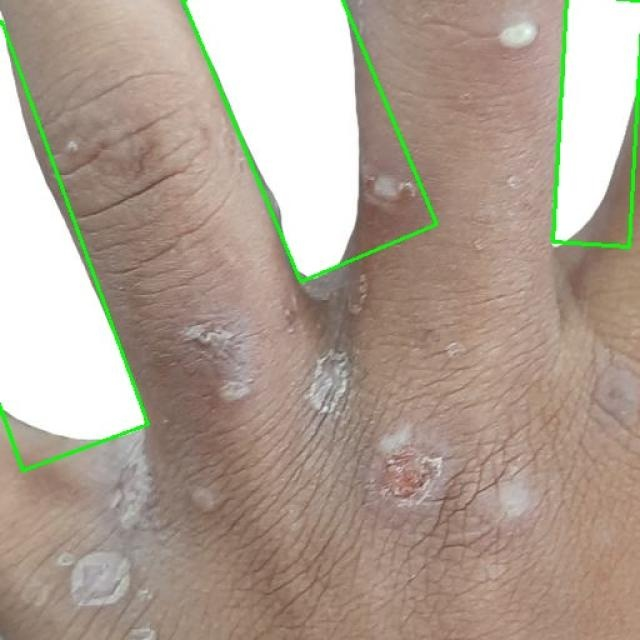Scabies: (183, 0, 436, 282), (0, 15, 151, 470), (553, 0, 640, 247)
